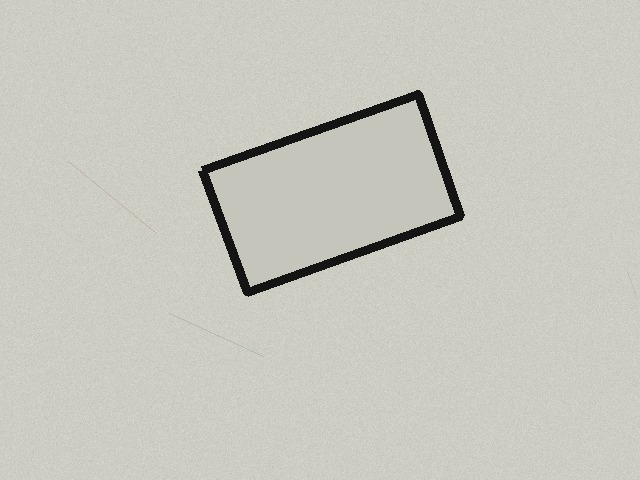parking_area: (202, 94, 460, 292)
